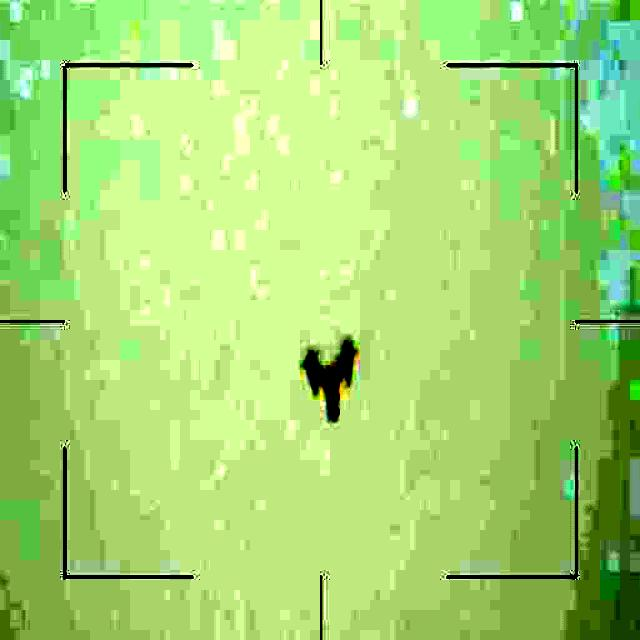bird: (299, 339, 359, 425)
